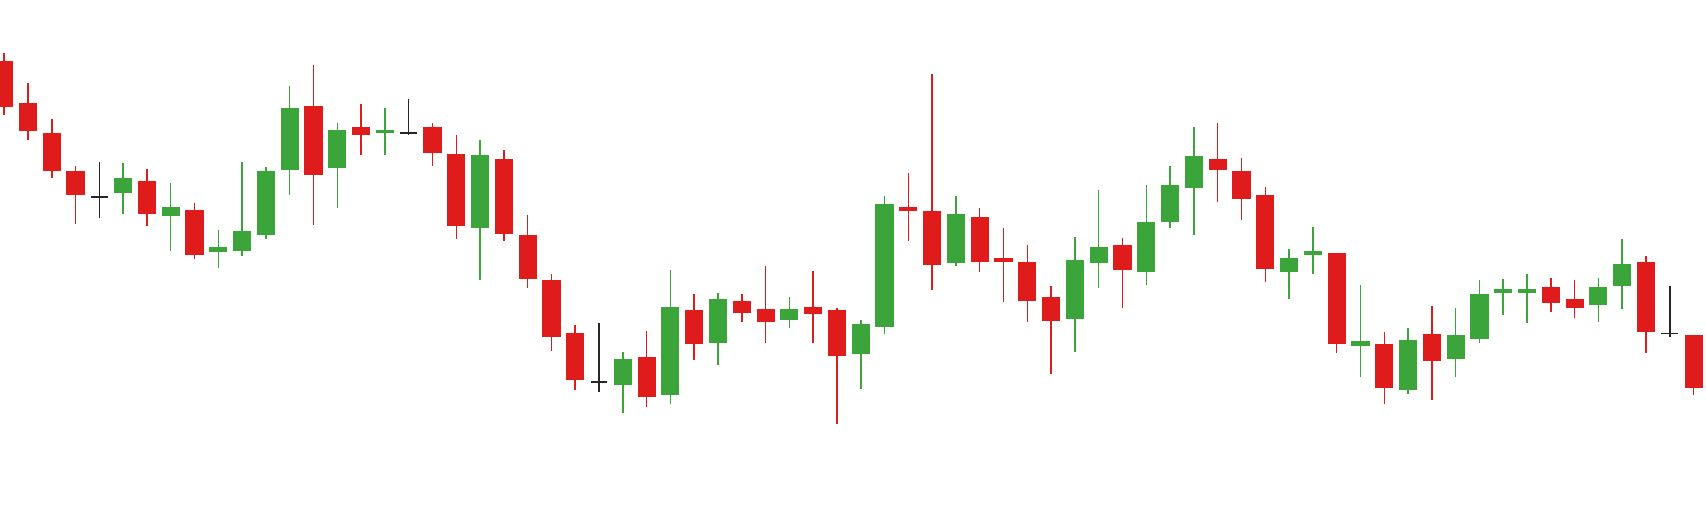buy: (656, 295, 871, 424)
